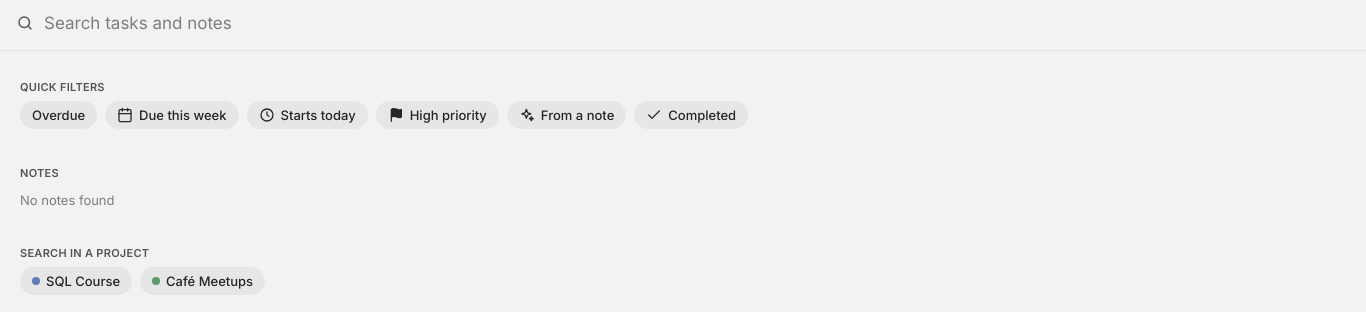
SearchPanel & SearchPopup › a quick filter with nothing typed and no results says nothing matches this filter, never {query}
Click the button "Starts today".
click(307, 115)  # box 246,101 -> 368,129
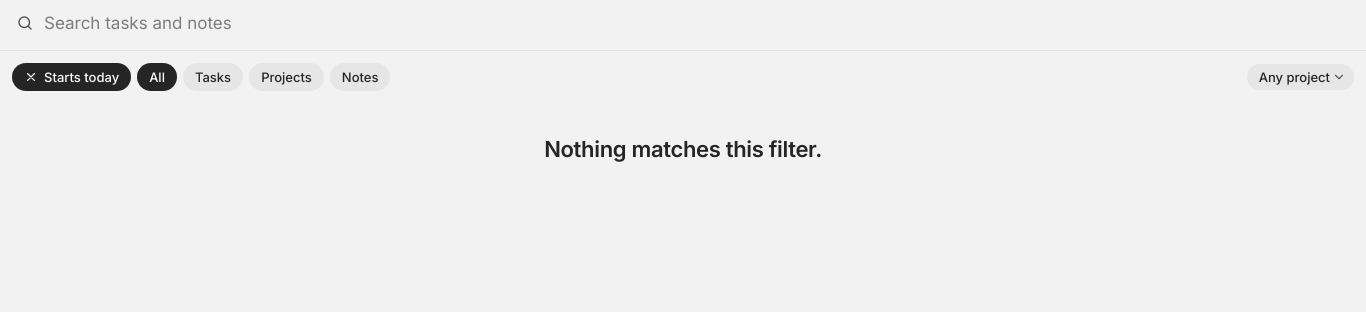
Result: the heading "Nothing matches this filter." is shown at 544,135 -> 822,163
